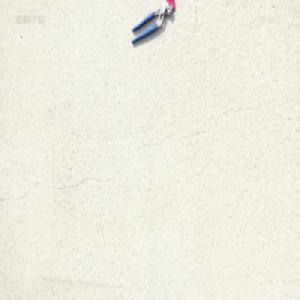Label: (166, 0, 179, 18)
Pliers: (131, 2, 173, 45)
